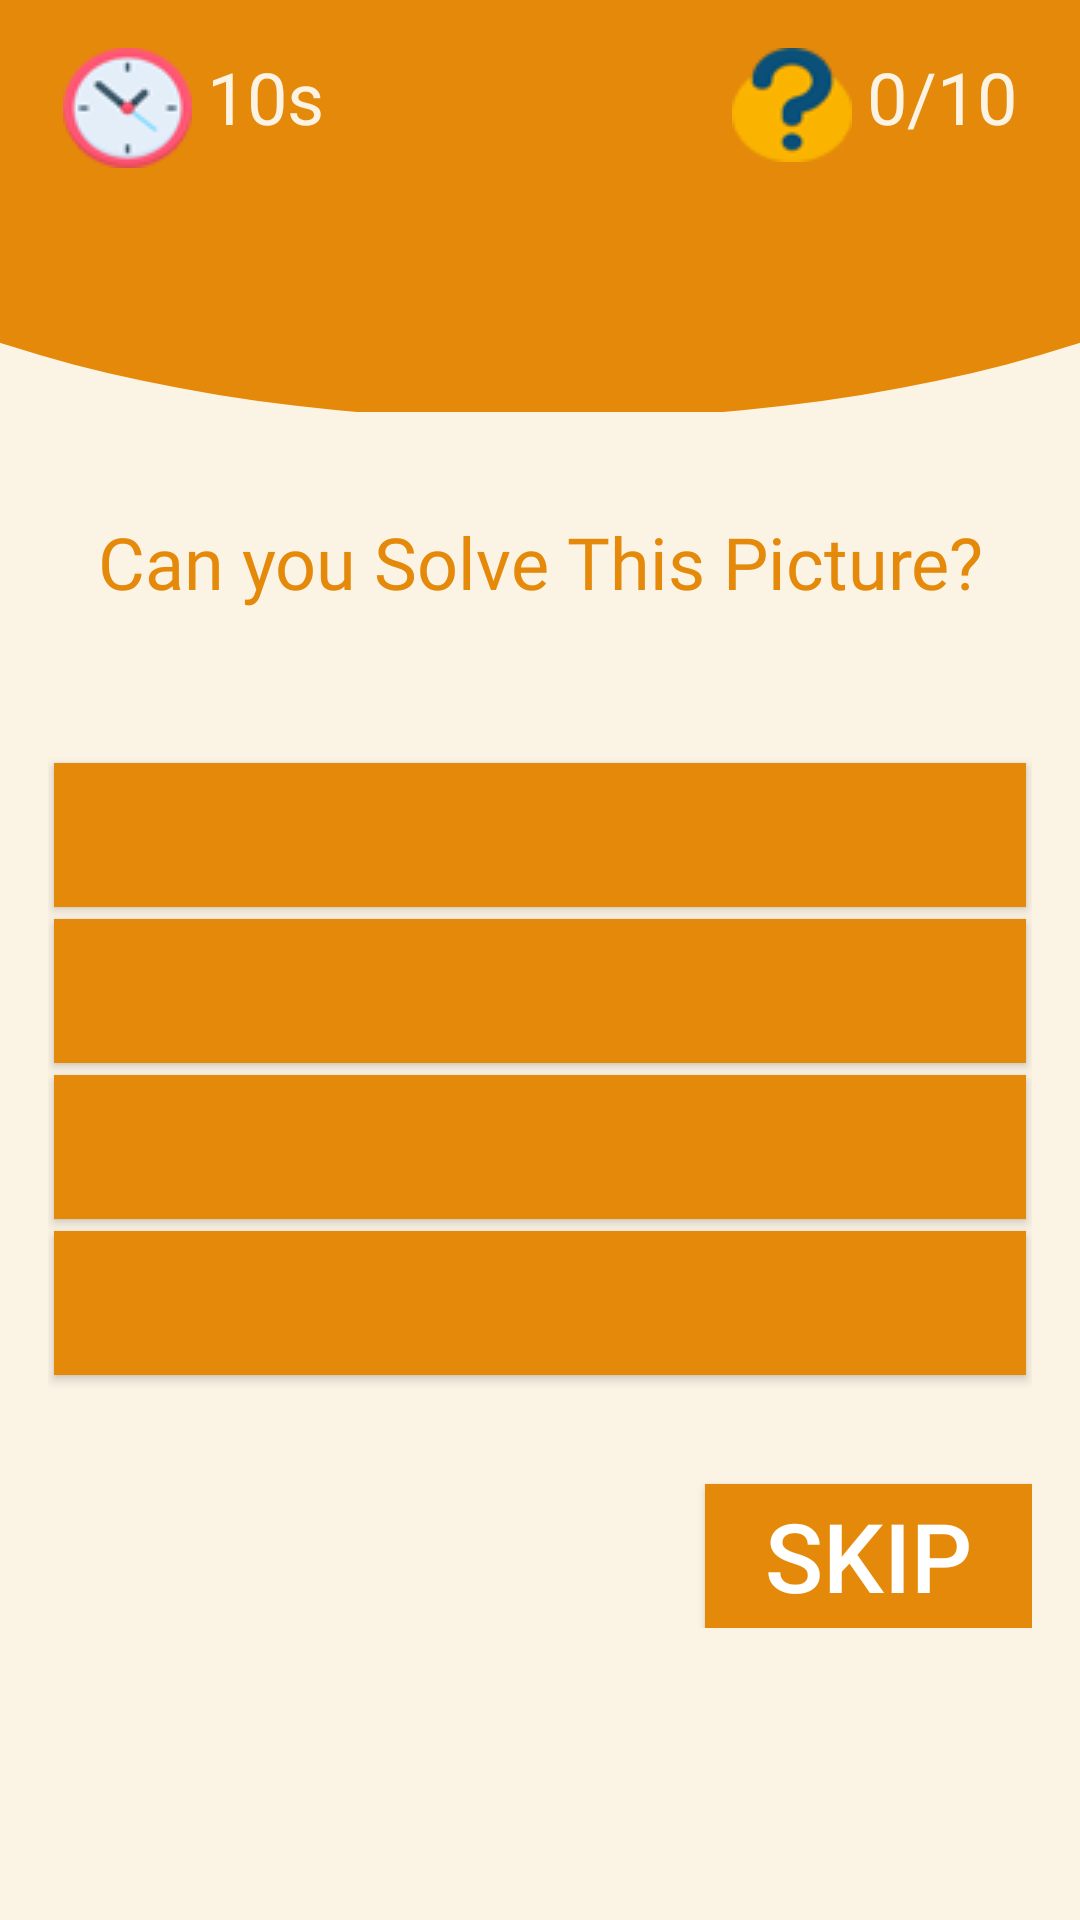

Icons on this 1080w x 1920h Android screen, each with the point to tap as point (x, y):
clock: point (127, 108)
questionmark: point (792, 105)
